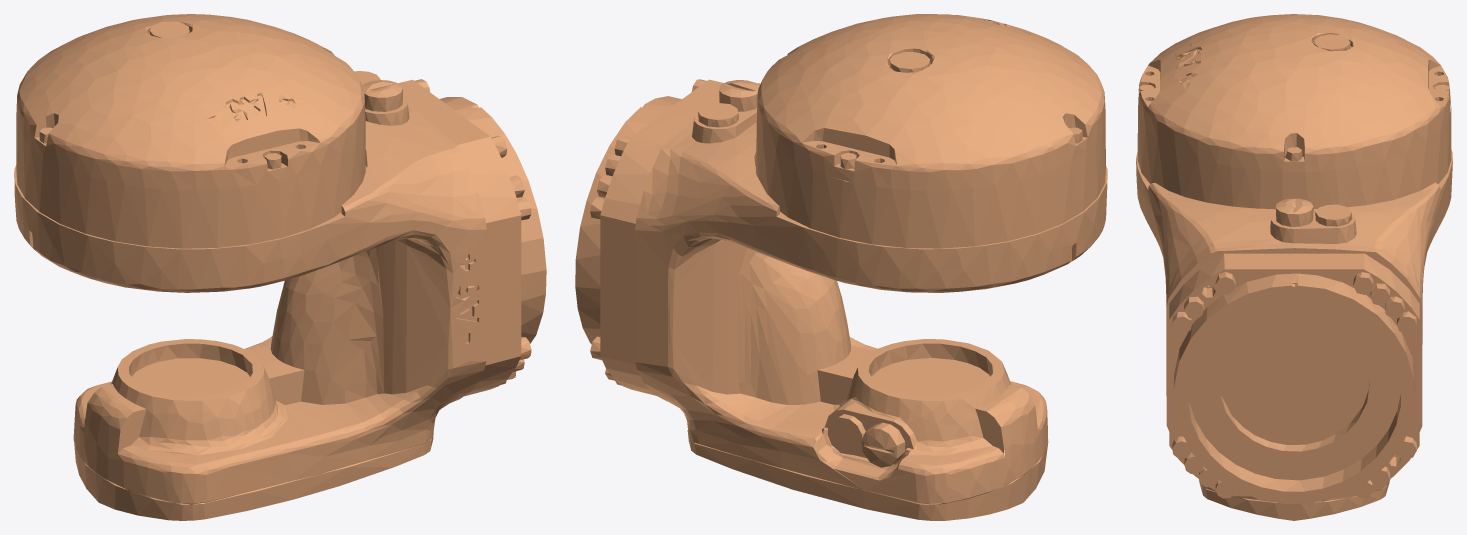
3 views of the same model, side by side, from view 1: azimuth 30°, elevation 25°; view 2: azimuth 150°, elevation 25°; view 3: azimuth 270°, elevation 25° (orthographic). The views are drawn at different scales.
Visible parts, largest first — view 1: /Link_5/Link_5_002-mesh/0; view 2: /Link_5/Link_5_002-mesh/0; view 3: /Link_5/Link_5_002-mesh/0.
Part boxes in pixels (x1=…): /Link_5/Link_5_002-mesh/0: x1=14, y1=14, x2=546, y2=520; /Link_5/Link_5_002-mesh/0: x1=575, y1=14, x2=1107, y2=520; /Link_5/Link_5_002-mesh/0: x1=1136, y1=14, x2=1452, y2=520.
Bounding box in the file's own units: 0.3033 × 0.2912 × 0.2103.
